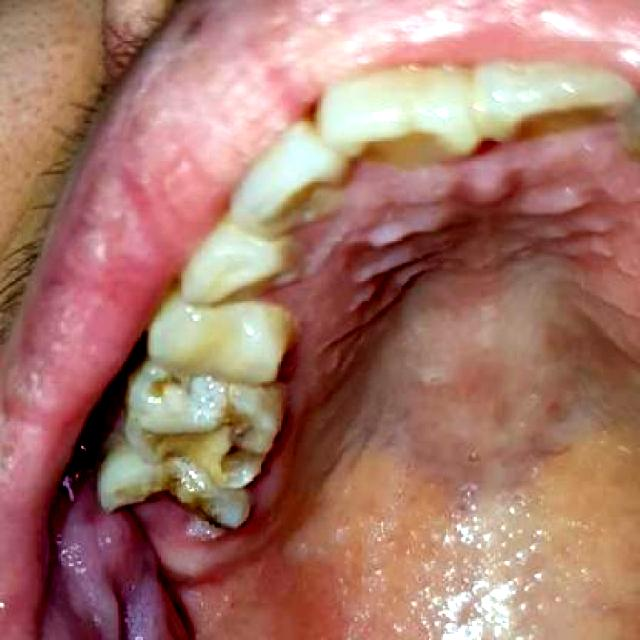Plaque: (142, 445, 291, 549), (138, 378, 261, 479), (125, 473, 227, 527)
